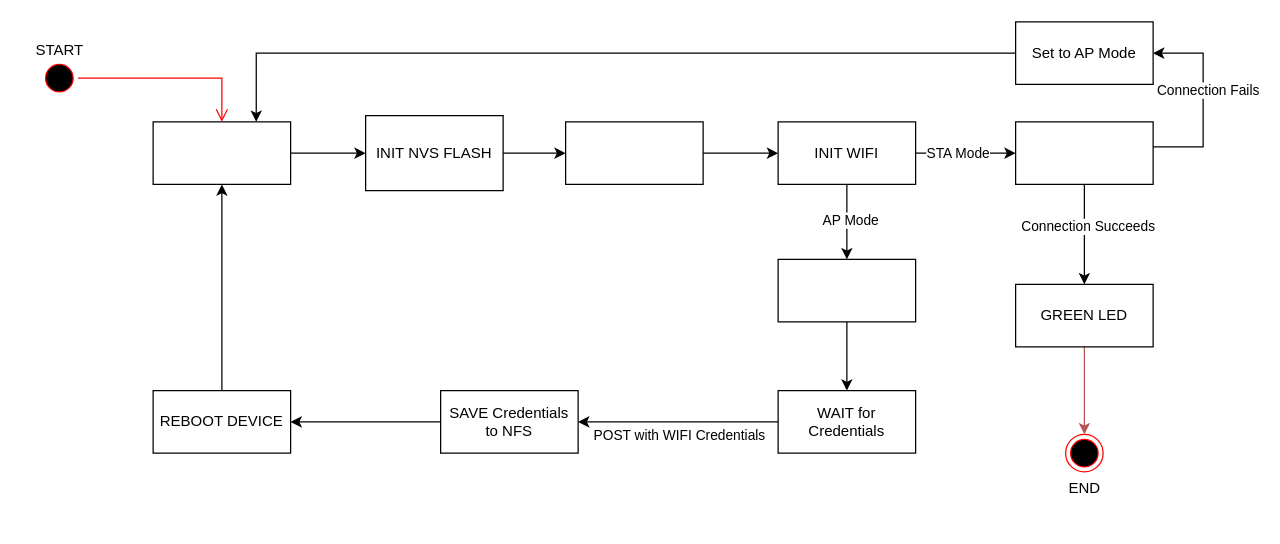
Some shapes in this 1280 by 544 pixel diagram are drawn without their labels. The shapes that lost their labels are listed below. From the top down, each one's centre as x and y in pixels, then its label:
pixel 221 152: INIT GPIO LEDs
pixel 633 152: READ BOOT Type (AP or STA)
pixel 1083 152: Connect to WIFI
pixel 846 290: START Web Server
